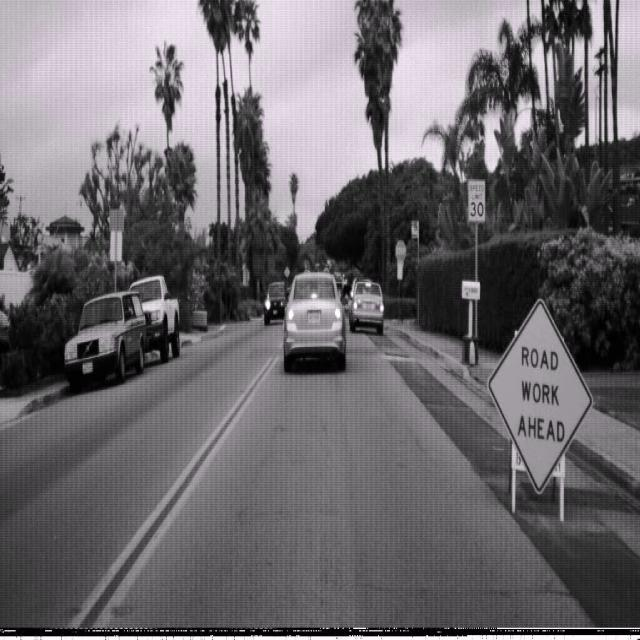speedLimit30: (466, 178, 486, 223)
